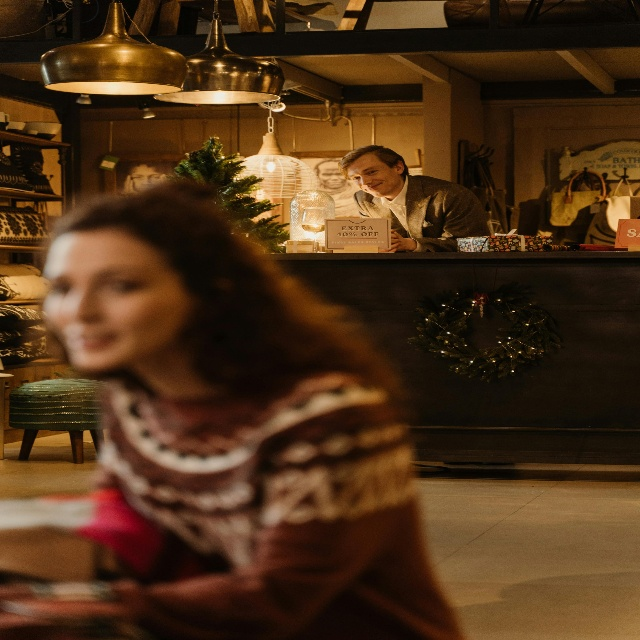Sin_guantes: (391, 228, 405, 251)
